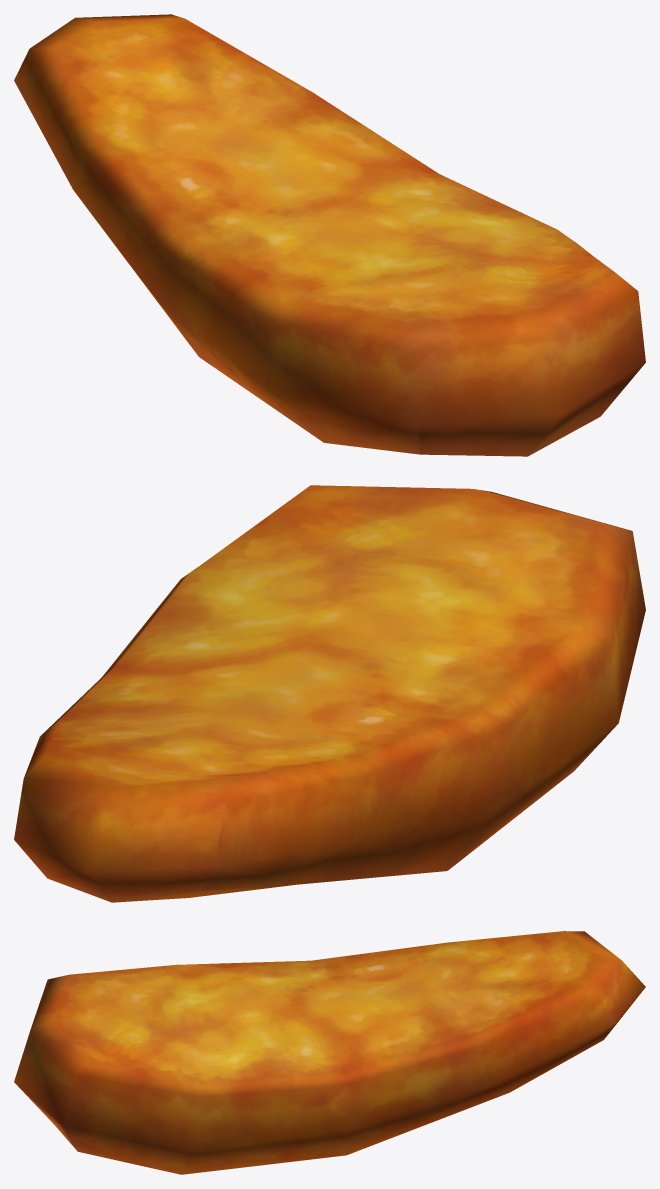
The model's file is Fish.fbx.
3 views of the same model, one above another, from view 1: azimuth 30°, elevation 25°; view 2: azimuth 150°, elevation 25°; view 3: azimuth 270°, elevation 25° (orthographic). The views are drawn at different scales.
Visible parts, largest first — view 1: Fish; view 2: Fish; view 3: Fish.
Part boxes in pixels (box(x1,y1,x2,y2)): Fish: box(14, 14, 645, 456); Fish: box(14, 485, 645, 902); Fish: box(14, 931, 645, 1174).
Bounding box in the file's own units: 0.3847 × 0.2401 × 0.8388.
1 material, 1 textured.
